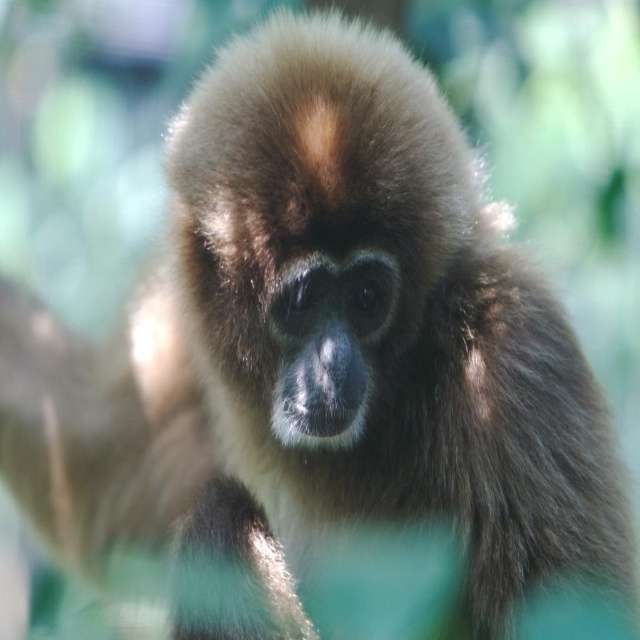Monkey: (1, 0, 640, 640)
